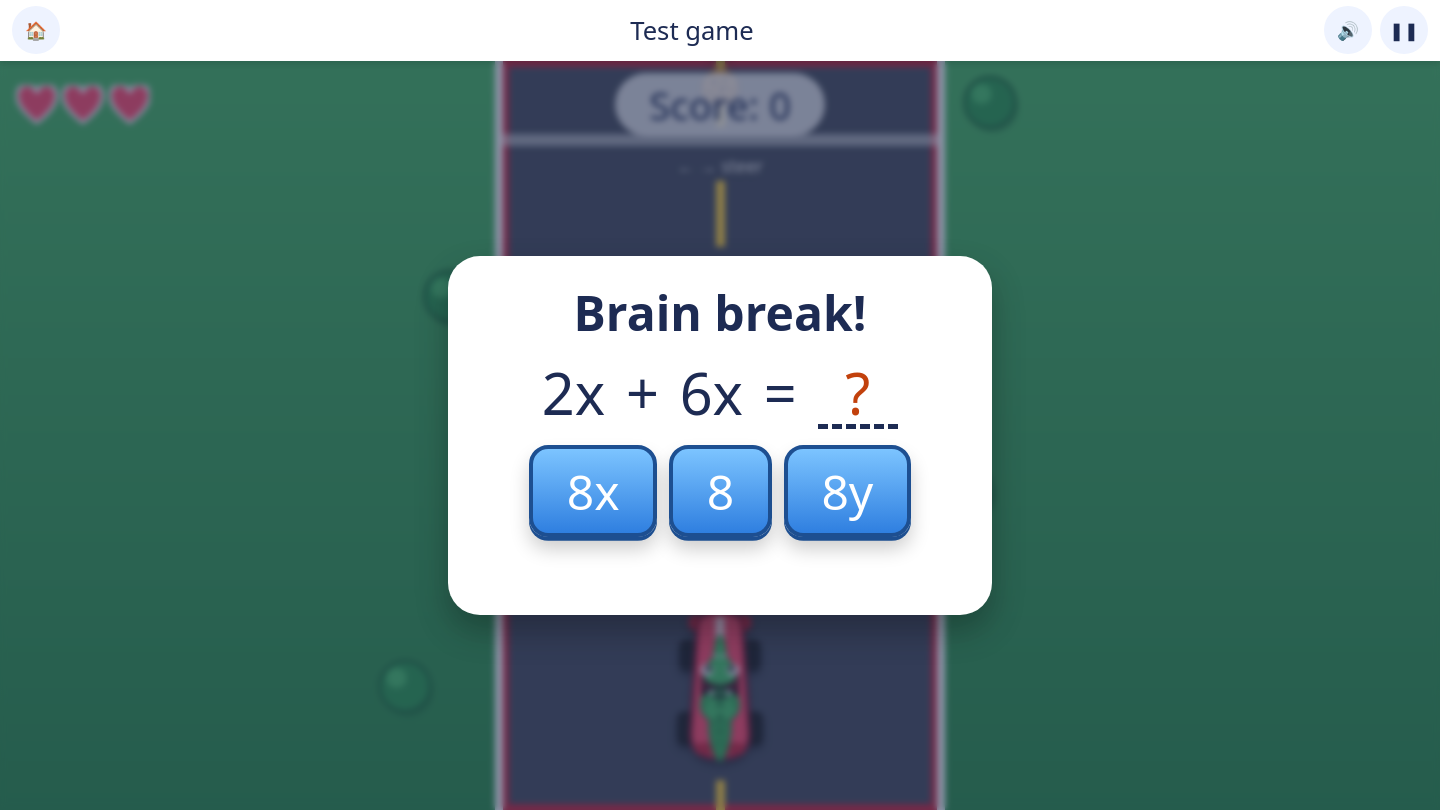
brain breaks › moves on after the right answer even following a slip, but gives no bonus
Click the button "8y": x=847, y=491 [784,445,911,537]
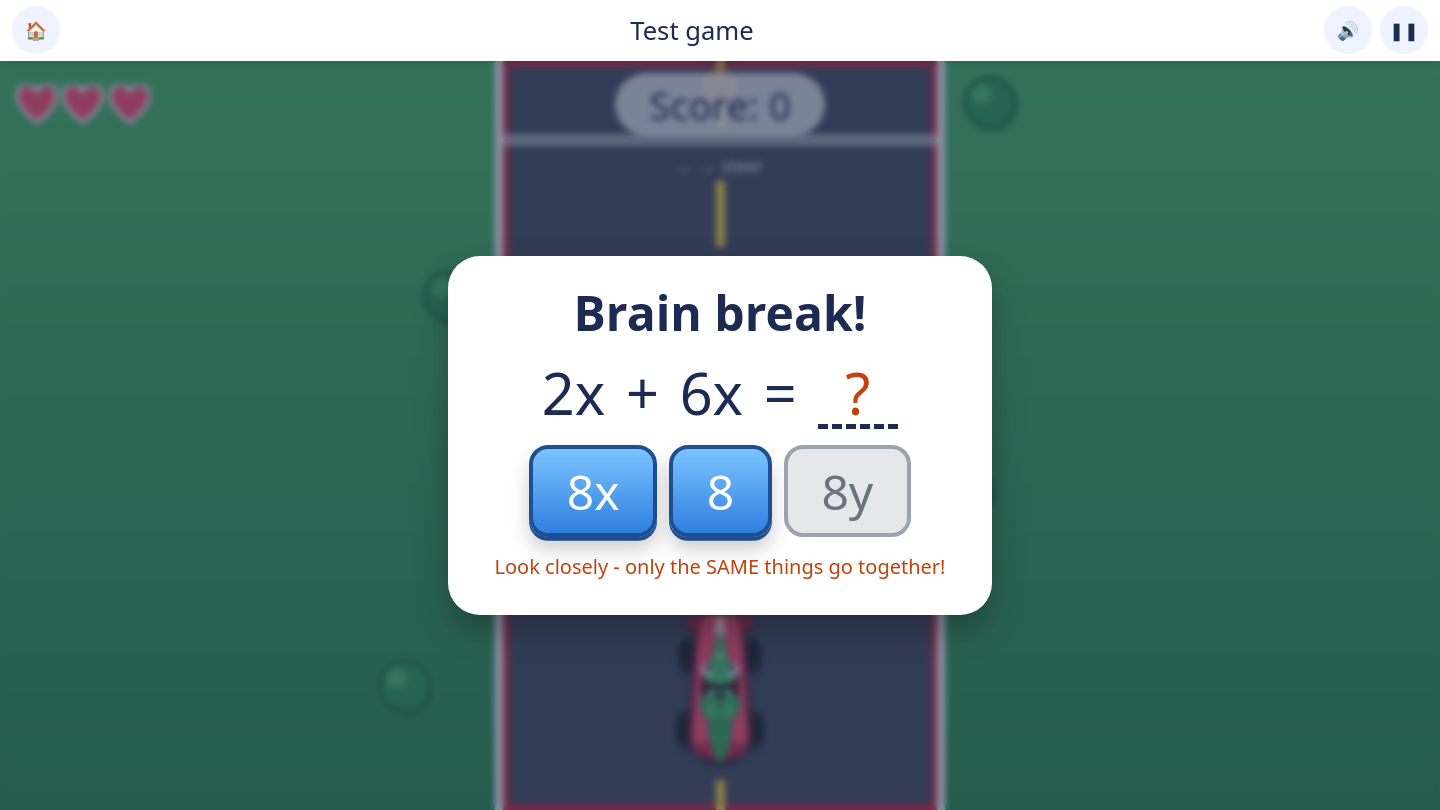
Click the button "8x": x=593, y=491 [529,445,657,537]
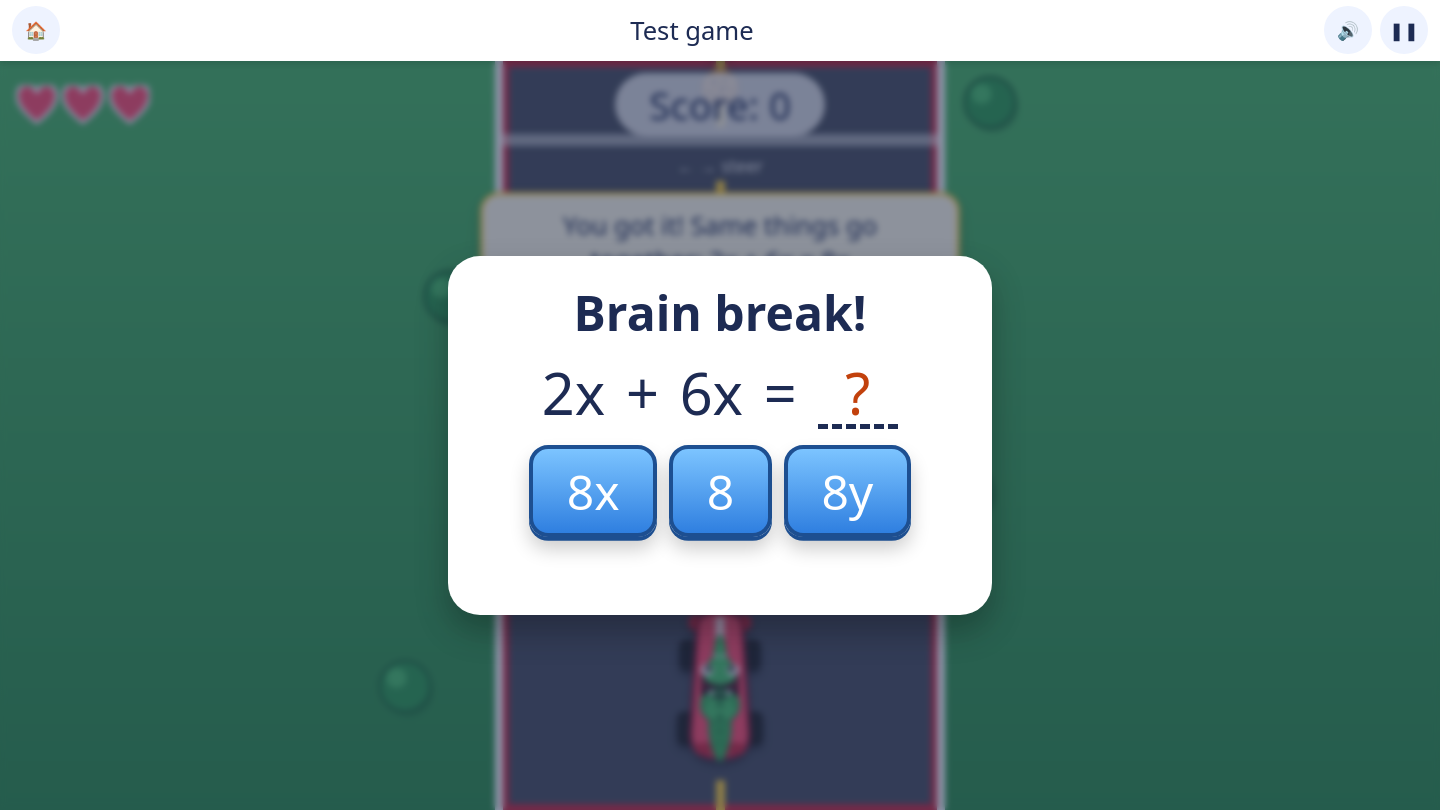
Now the button "8y" is enabled, box [784,445,911,537]
